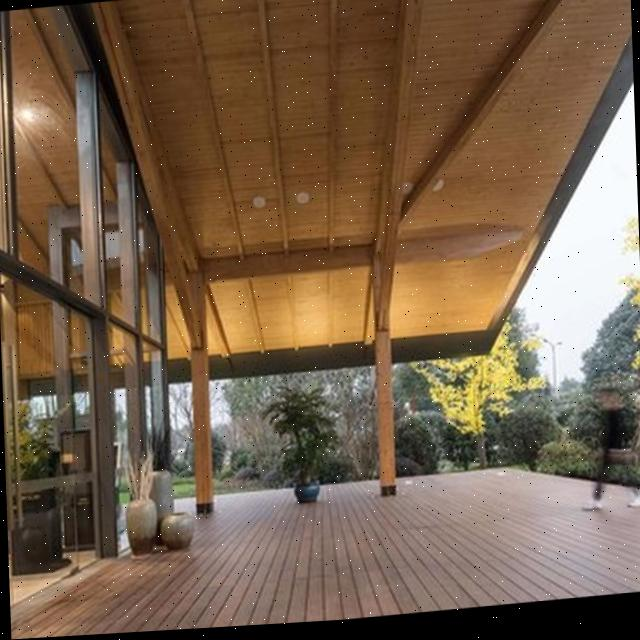building: (0, 0, 178, 630)
